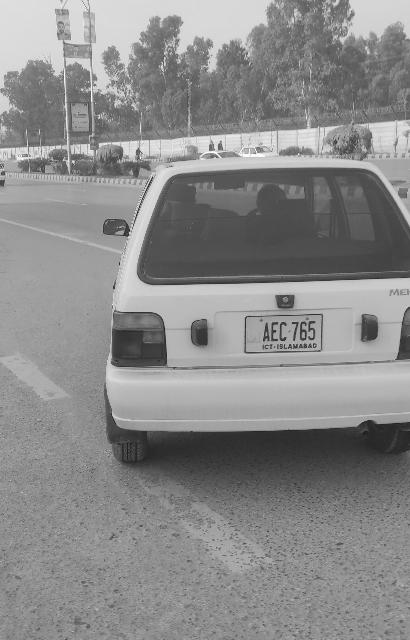Number: (261, 322, 319, 346)
